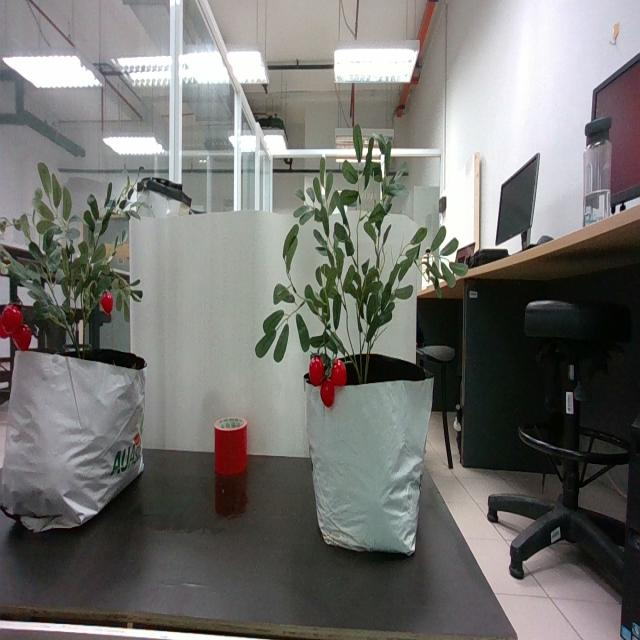Soilbag: (0, 351, 146, 536), (304, 354, 434, 556)
Tomato: (309, 356, 347, 408)
plant: (254, 136, 474, 409), (0, 163, 140, 358)
